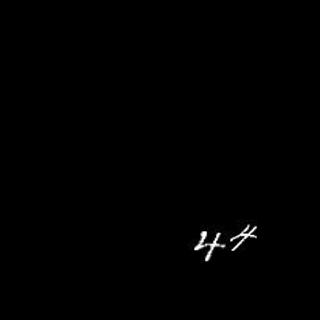four: (194, 227, 227, 265), (228, 218, 263, 253)
